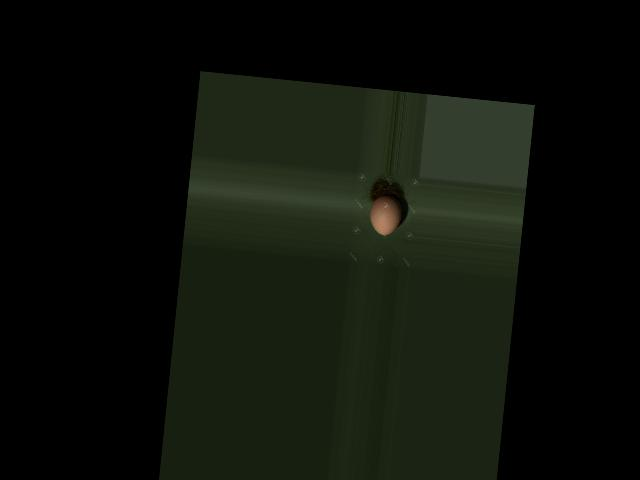egg: (368, 193, 403, 237)
